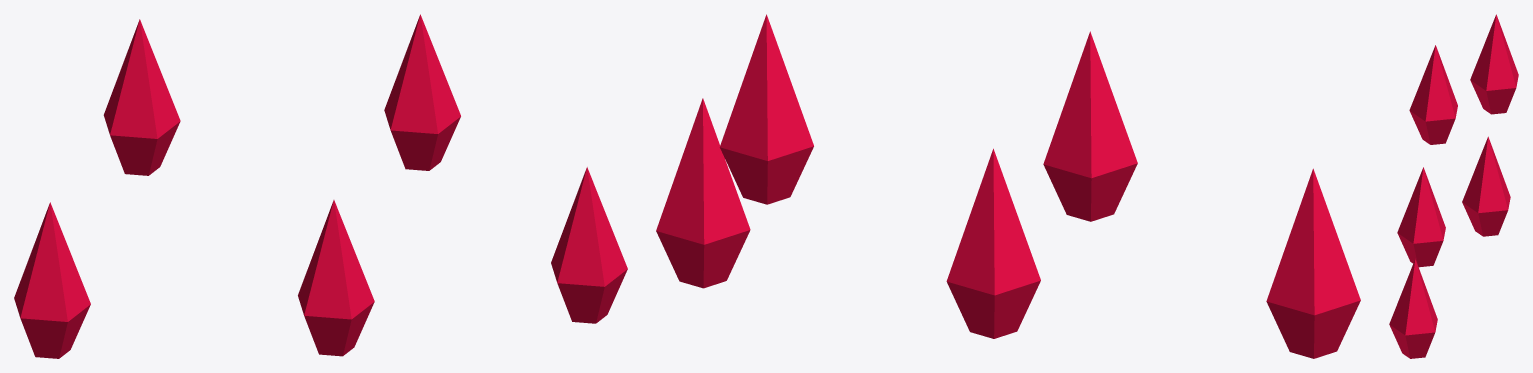
File: flames0.glb
3 renders of one model, left to right at view 1: azimuth 30°, elevation 25°; view 2: azimuth 150°, elevation 25°; view 3: azimuth 270°, elevation 25°, orthographic. The views are drawn at different scales.
Visible parts, largest first — view 1: Flames0; view 2: Flames0; view 3: Flames0.
Part boxes in pixels (left/top/right/bottom): Flames0: left=14, top=14, right=627, bottom=358; Flames0: left=656, top=14, right=1360, bottom=358; Flames0: left=1389, top=14, right=1518, bottom=358.
Bounding box in the file's own units: 1.07 × 0.6 × 0.3202.
